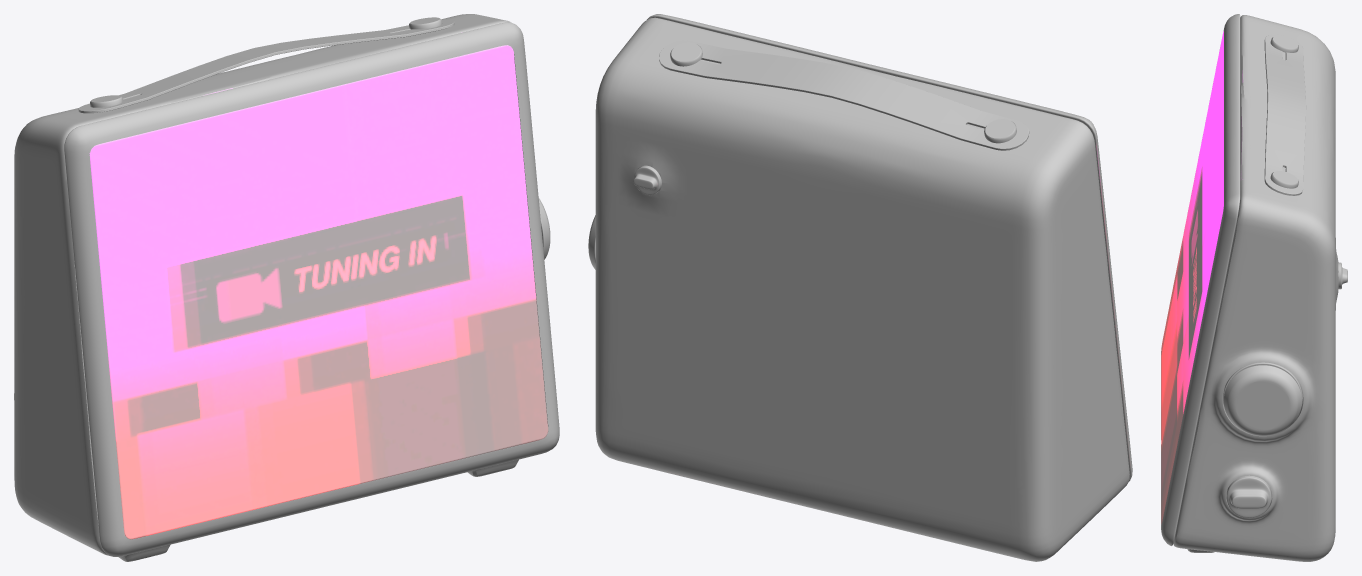
The picture shows the model from 3 angles, left to right: view 1: azimuth 30°, elevation 25°; view 2: azimuth 150°, elevation 25°; view 3: azimuth 270°, elevation 25°; orthographic projection. The views are drawn at different scales.
Visible parts, largest first — view 1: monitor.006_low, monitor.002_low, monitor.005_low, monitor.001_low, monitor.007_low; view 2: monitor.002_low, monitor.001_low, monitor.005_low, monitor.007_low; view 3: monitor.002_low, monitor.006_low, monitor.005_low, monitor.001_low, monitor.003_low, monitor_low, monitor.007_low.
Boxes of the visible parts, bbox=[...] form: monitor.006_low: bbox=[89, 45, 548, 539]; monitor.002_low: bbox=[14, 14, 518, 561]; monitor.005_low: bbox=[64, 22, 559, 556]; monitor.001_low: bbox=[78, 19, 454, 113]; monitor.007_low: bbox=[90, 17, 442, 107]; monitor.002_low: bbox=[595, 17, 1129, 561]; monitor.001_low: bbox=[659, 40, 1029, 150]; monitor.005_low: bbox=[647, 14, 1132, 481]; monitor.007_low: bbox=[670, 42, 1016, 143]; monitor.002_low: bbox=[1173, 15, 1338, 561]; monitor.006_low: bbox=[1161, 31, 1223, 524]; monitor.005_low: bbox=[1161, 14, 1240, 545]; monitor.001_low: bbox=[1264, 34, 1306, 195]; monitor.003_low: bbox=[1223, 362, 1302, 436]; monitor_low: bbox=[1226, 475, 1271, 517]; monitor.007_low: bbox=[1270, 35, 1298, 188].
Size of what is drawn, in the model's own units: 0.3187 by 0.2707 by 0.1223.
